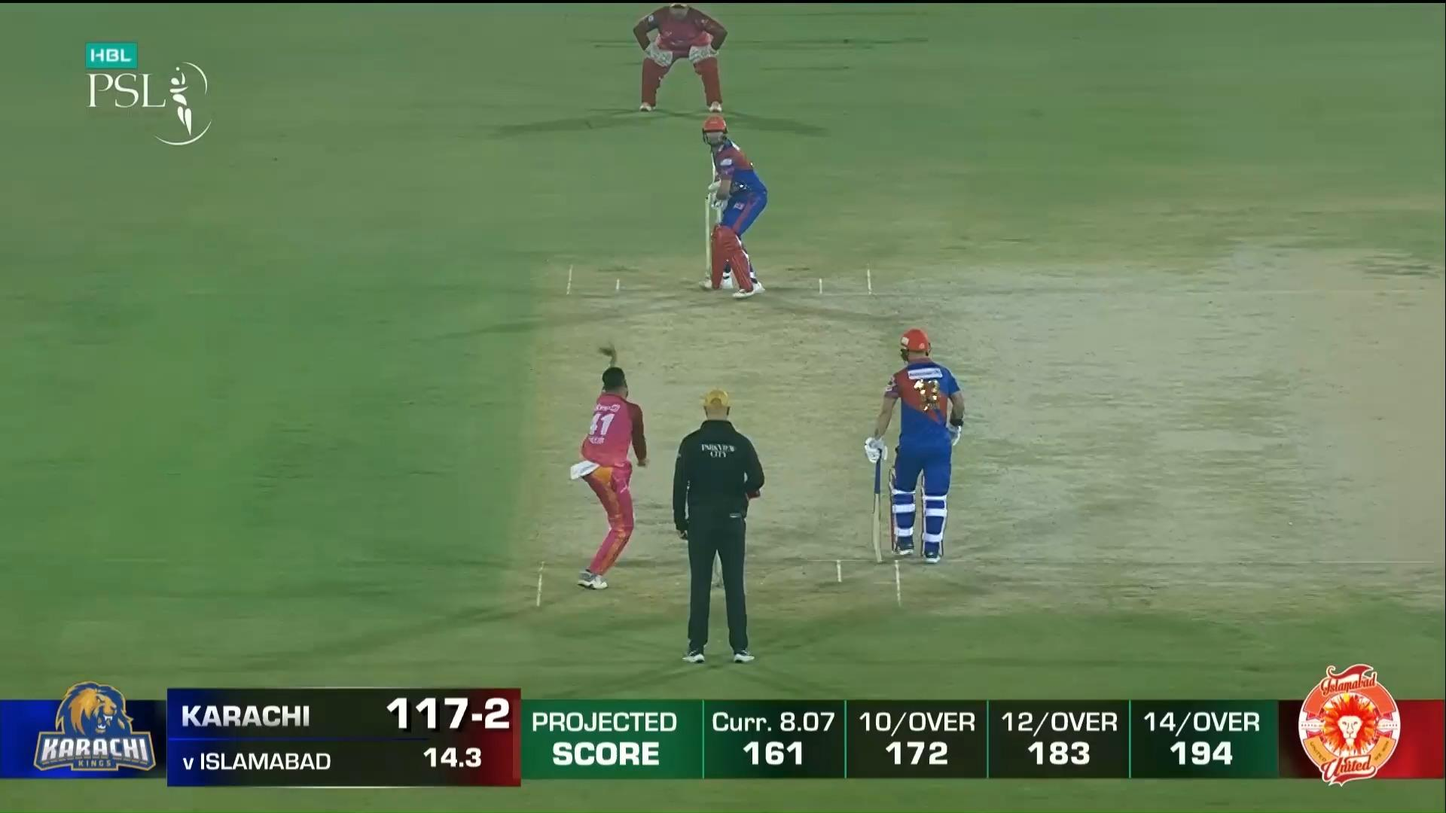batsman: (701, 114, 768, 301)
